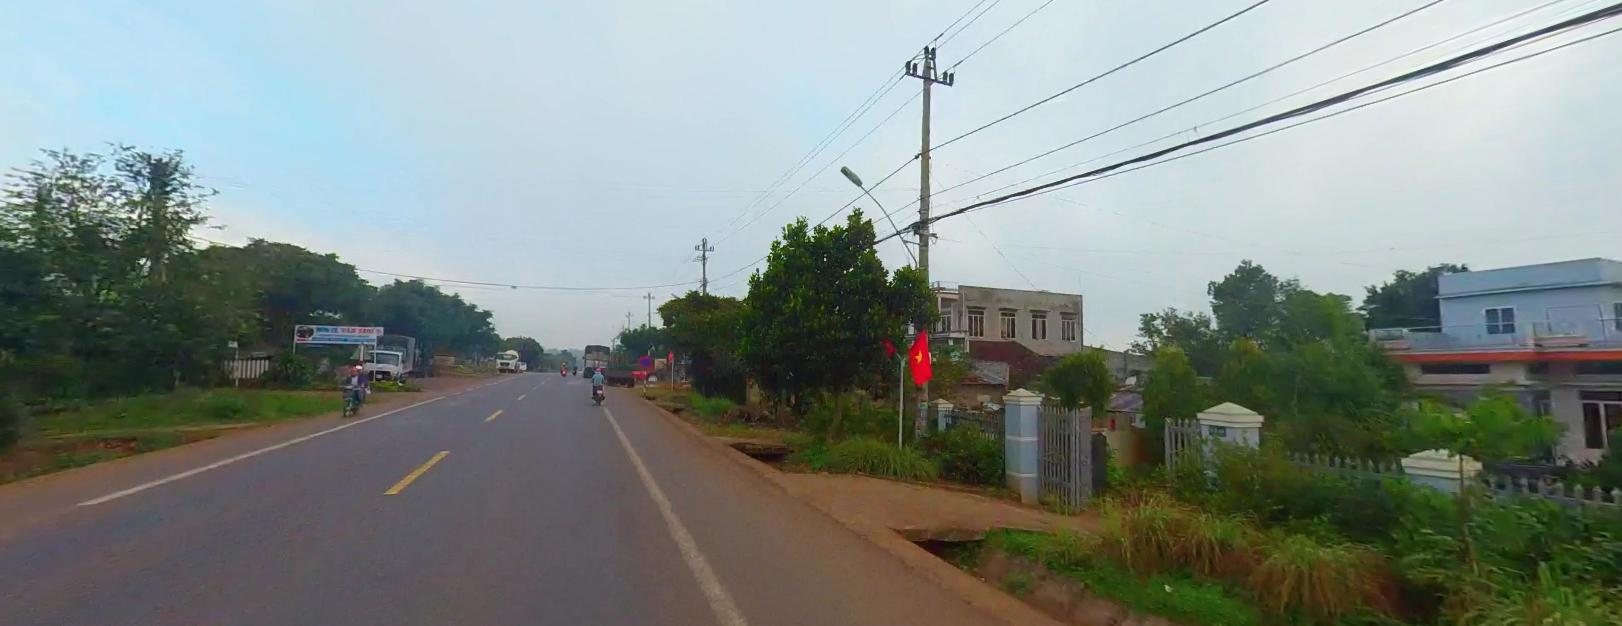Cam dung va do: (639, 353, 652, 367)
